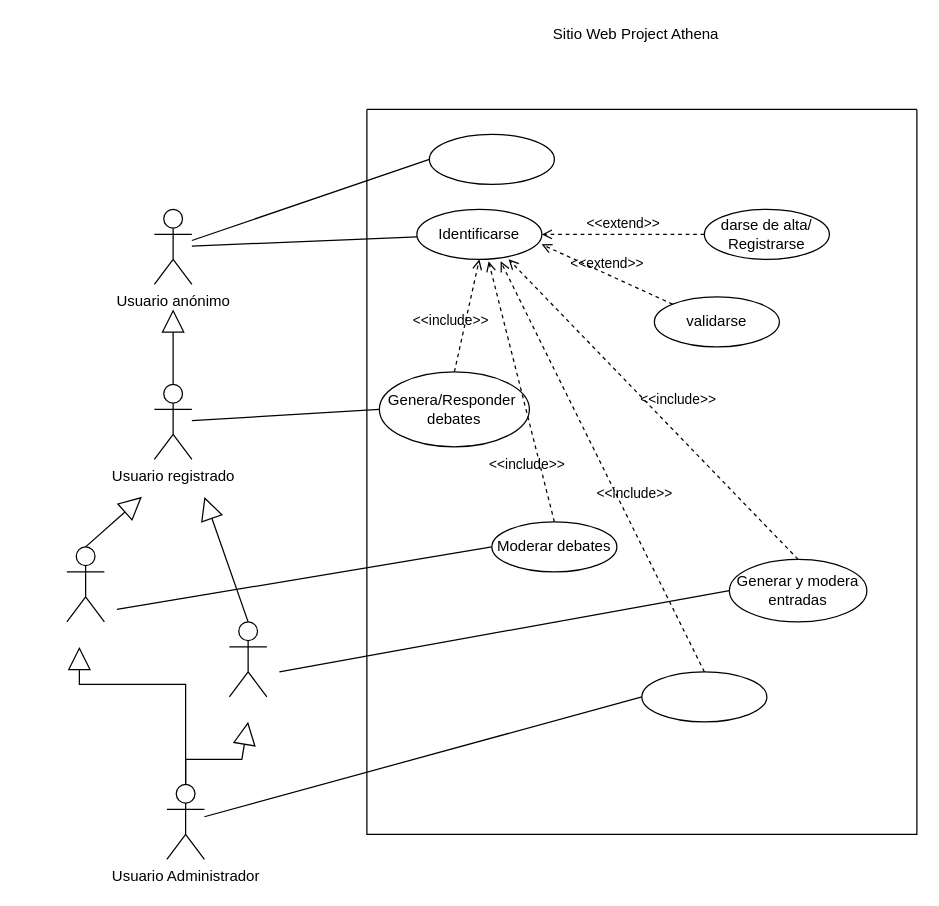
This 939x906 diagram has some shape labels left out. The shapes that lost their labels are listed below. From the top down, each one's box as (x1, y1, x2, y2) in pixels, then its label:
(428, 133, 554, 184): Navegar
(66, 546, 104, 622): Usuario Moderador
(228, 621, 267, 697): Usuario Experto
(641, 671, 767, 722): Gestión de los usuarios
